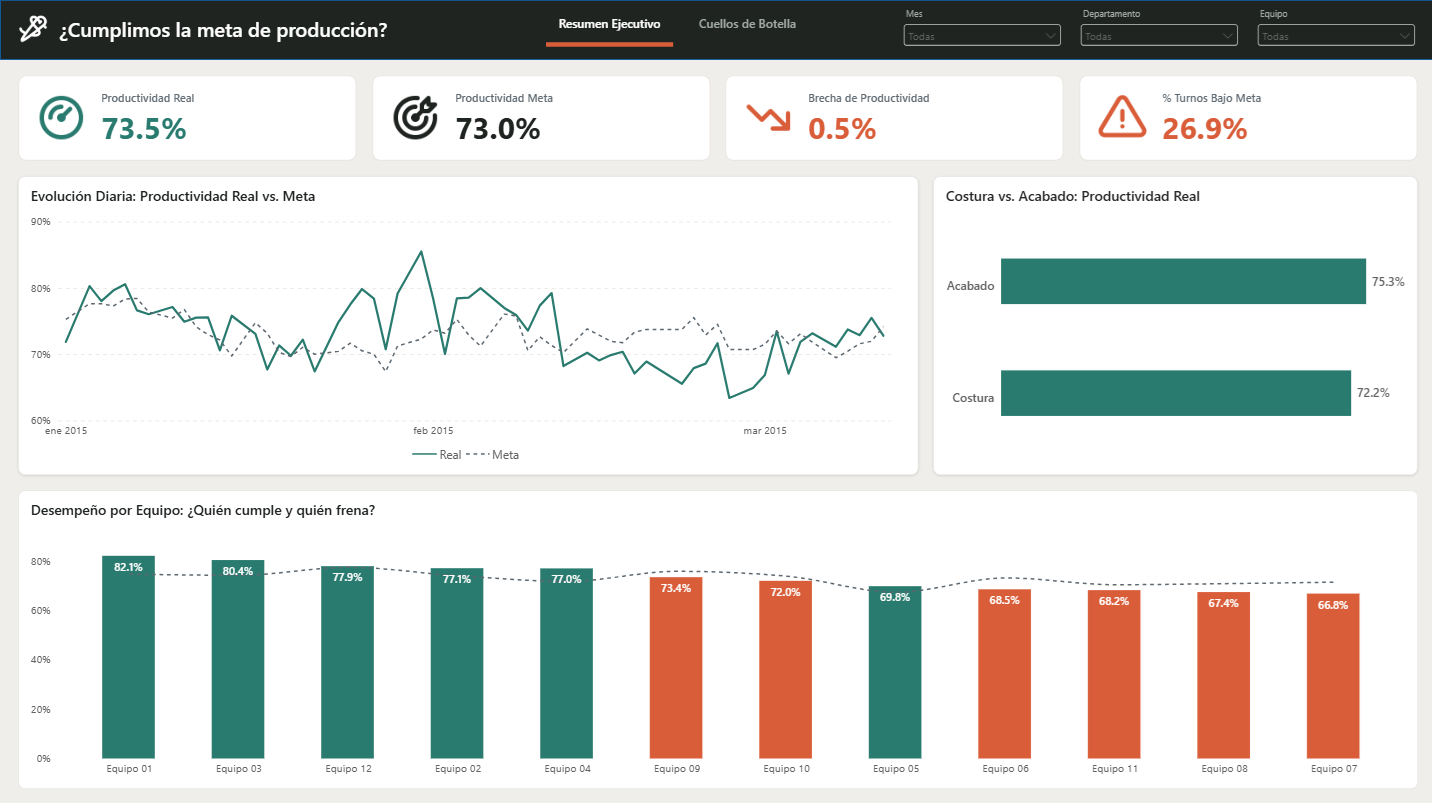

The dashboard page shown, as its layout file describes it:
{"tool":"powerbi","page":{"name":"Resumen Ejecutivo","canvas":[1920,1080],"ordinal":0},"visuals":[{"type":"shape","box":[0,0,1920.6,80],"z":0},{"type":"image","box":[24,18,42,42],"z":1000},{"type":"textbox","box":[78.5,20,560,40],"z":2000},{"type":"actionButton","box":[730,12,170,38],"z":3000},{"type":"actionButton","box":[915,12,170,38],"z":4000},{"type":"slicer","fields":{"Values":["dim_tiempo.mes_nombre"]},"box":[1204,10,220,60],"z":5000},{"type":"slicer","fields":{"Values":["dim_departamento.departamento"]},"box":[1440,10,220,60],"z":6000},{"type":"slicer","fields":{"Values":["dim_equipo.equpo"]},"box":[1676,10,220,60],"z":7000},{"type":"shape","box":[730,54,170,12],"z":8000},{"type":"cardVisual","fields":{"Data":["_Medidas.Productividad Real"]},"box":[24,100,453,115],"z":9000},{"type":"cardVisual","fields":{"Data":["_Medidas.Productividad Meta"]},"box":[497,100,453,115],"z":10000},{"type":"cardVisual","fields":{"Data":["_Medidas.% Turnos Bajo Meta"]},"box":[1443,100,453,115],"z":11000},{"type":"cardVisual","fields":{"Data":["_Medidas.Brecha de Productividad"]},"box":[970,100,453,115],"z":12000},{"type":"lineChart","title":"Evolución Diaria: Productividad Real vs. Meta","fields":{"Category":["dim_tiempo.Date"],"Y":["_Medidas.Productividad Real","_Medidas.Productividad Meta"]},"box":[24,235,1204,400],"z":13000},{"type":"clusteredBarChart","title":"Costura vs. Acabado: Productividad Real","fields":{"Category":["dim_departamento.departamento"],"Y":["_Medidas.Productividad Real"]},"box":[1248,235,648,400],"z":14000},{"type":"lineClusteredColumnComboChart","title":"Desempeño por Equipo: ¿Quién cumple y quién frena?","fields":{"Category":["dim_equipo.equpo"],"Y":["_Medidas.Productividad Real"],"Y2":["_Medidas.Productividad Meta"]},"box":[24,655,1872,400],"z":15000}]}

Visuals, with their boxes in screenshot pixels (x1, y1, x2, y2), scaled from the page's 1920x1080 canvas onto the 1432x803 screenshot:
shape: <box>0,0,1431,59</box>
image: <box>18,13,49,45</box>
textbox: <box>59,15,476,45</box>
actionButton: <box>544,9,671,37</box>
actionButton: <box>682,9,809,37</box>
slicer - dim_tiempo.mes_nombre: <box>898,7,1062,52</box>
slicer - dim_departamento.departamento: <box>1074,7,1238,52</box>
slicer - dim_equipo.equpo: <box>1250,7,1414,52</box>
shape: <box>544,40,671,49</box>
cardVisual - _Medidas.Productividad Real: <box>18,74,356,160</box>
cardVisual - _Medidas.Productividad Meta: <box>371,74,709,160</box>
cardVisual - _Medidas.% Turnos Bajo Meta: <box>1076,74,1414,160</box>
cardVisual - _Medidas.Brecha de Productividad: <box>723,74,1061,160</box>
"Evolución Diaria: Productividad Real vs. Meta" lineChart: <box>18,175,916,472</box>
"Costura vs. Acabado: Productividad Real" clusteredBarChart: <box>931,175,1414,472</box>
"Desempeño por Equipo: ¿Quién cumple y quién frena?" lineClusteredColumnComboChart: <box>18,487,1414,784</box>
